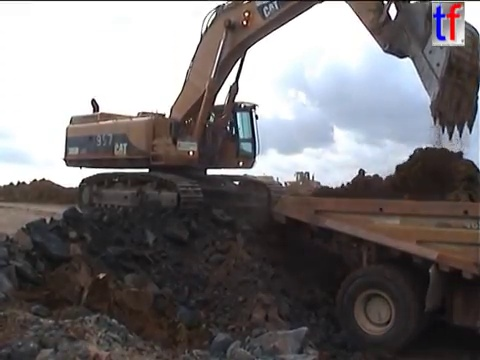excavator: (59, 1, 480, 225)
truck: (269, 190, 480, 360)
wheel loader: (268, 169, 323, 200)
